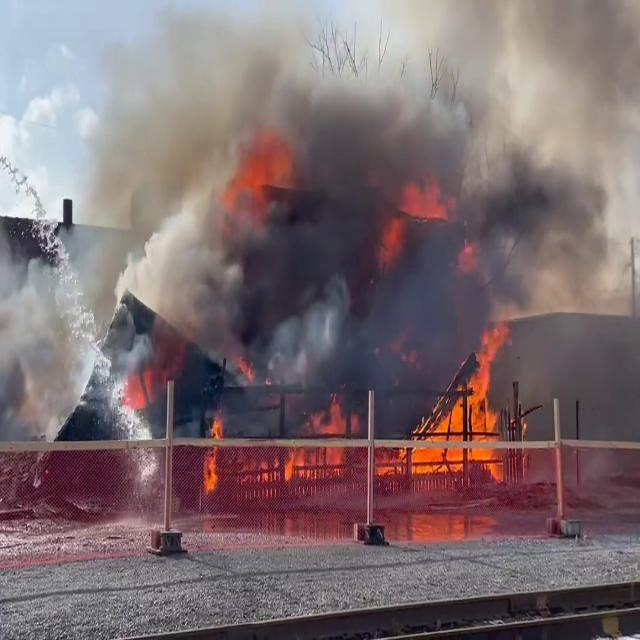Fire: (255, 391, 362, 496), (436, 324, 508, 467), (199, 415, 227, 493)
Smoke: (17, 1, 639, 407)
